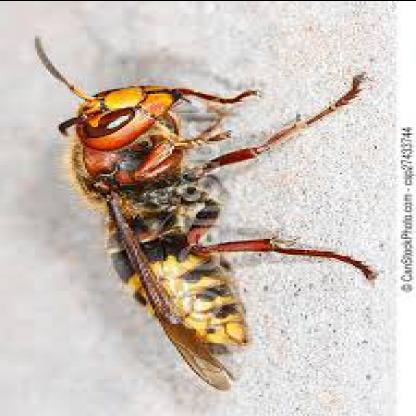european: (37, 50, 366, 374)
